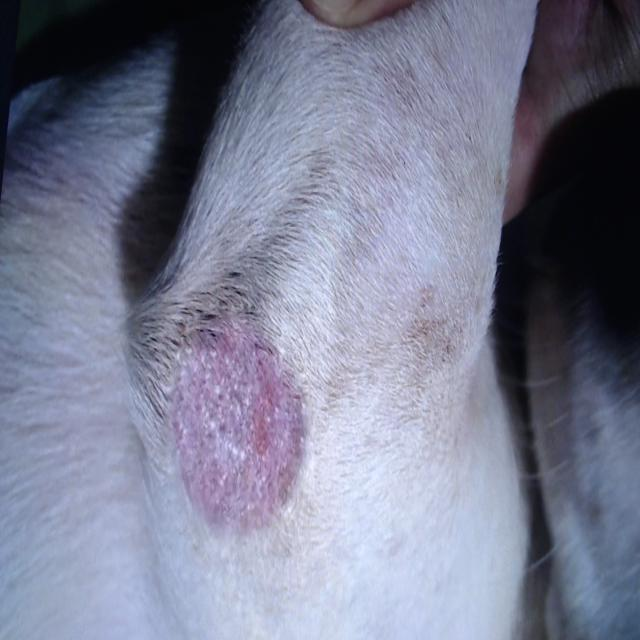ringworm: (154, 319, 322, 541)
